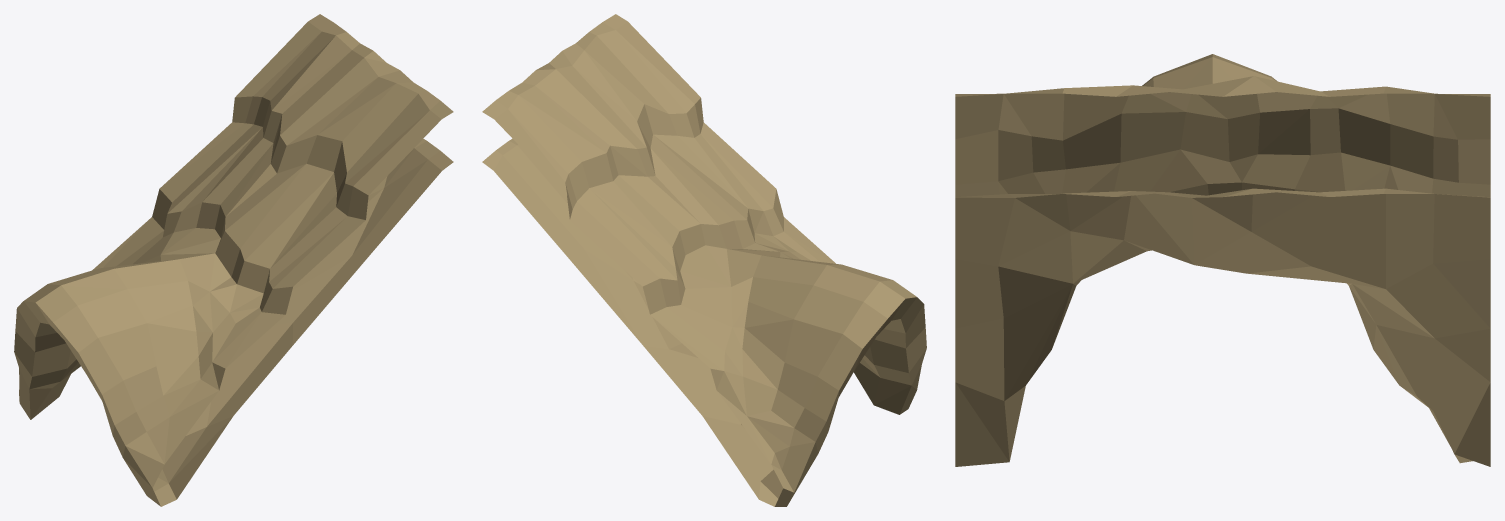
The model's file is rpgpp_ag_roof_02c_6x3x3_half.fbx.
3 renders of one model, left to right at view 1: azimuth 30°, elevation 25°; view 2: azimuth 150°, elevation 25°; view 3: azimuth 270°, elevation 25°, orthographic. The views are drawn at different scales.
Parts seen in each view (by area): view 1: rpgpp_ag_roof_02c_6x3x3_half; view 2: rpgpp_ag_roof_02c_6x3x3_half; view 3: rpgpp_ag_roof_02c_6x3x3_half.
Part boxes in pixels (box(x1,y1,x2,y2)): rpgpp_ag_roof_02c_6x3x3_half: box(14, 14, 453, 506); rpgpp_ag_roof_02c_6x3x3_half: box(482, 14, 926, 506); rpgpp_ag_roof_02c_6x3x3_half: box(955, 54, 1490, 466).
Size of the model in its own units: 4.58 by 4.1 by 3.
